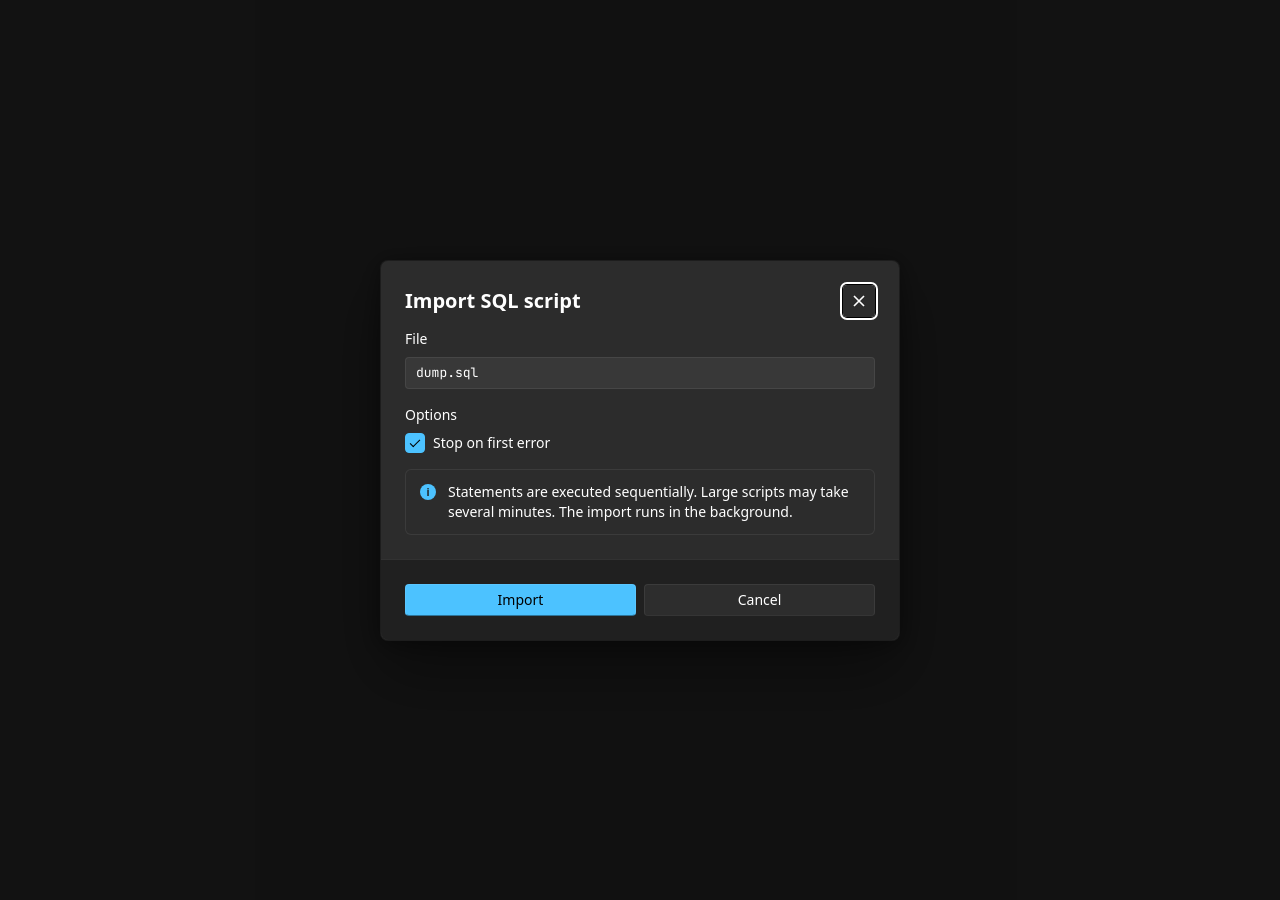
Test case: SqlImportDialog › shows "Importing..." and disables Import button while running
Click the button with test id "import-submit-button": {"x": 520, "y": 600} [405, 584, 636, 616]
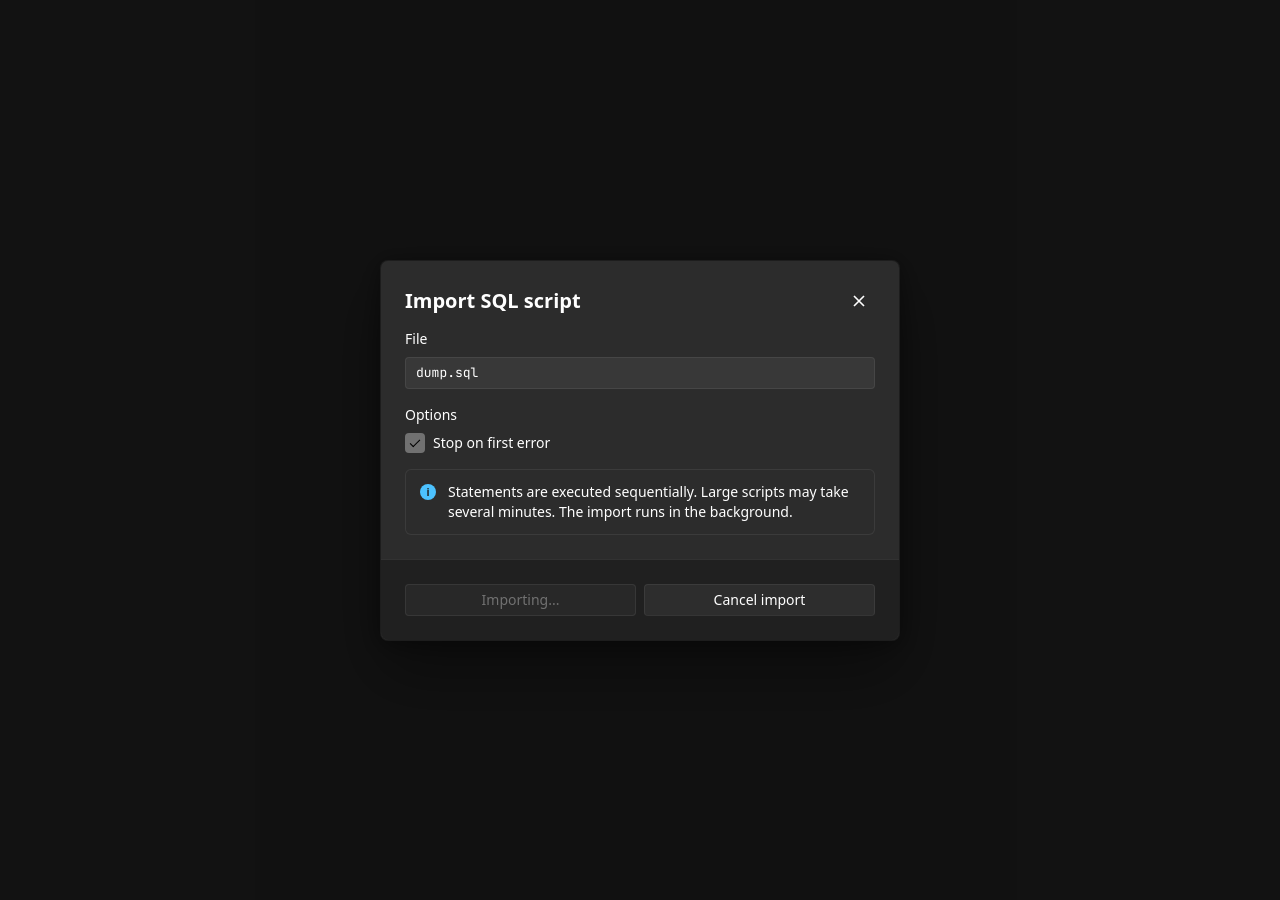
Check: the button with test id "import-submit-button" reads "Importing...", box [405, 584, 636, 616]
Check: the button with test id "import-submit-button" is disabled, box [405, 584, 636, 616]
